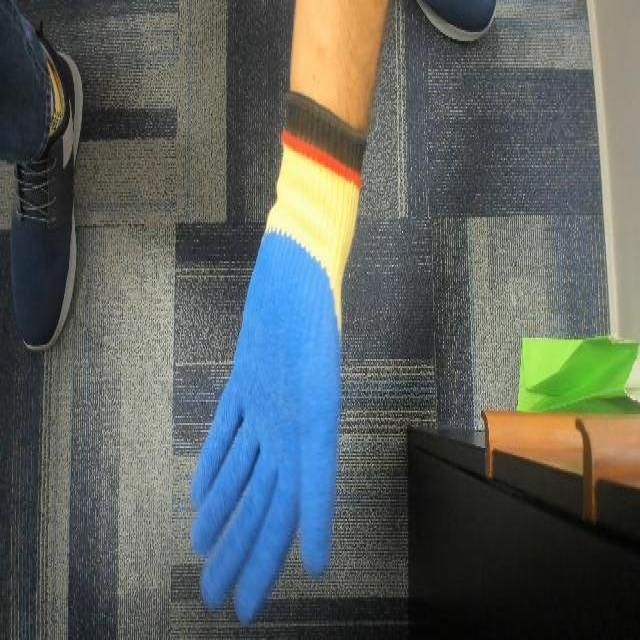Guantes: (218, 97, 362, 600)
